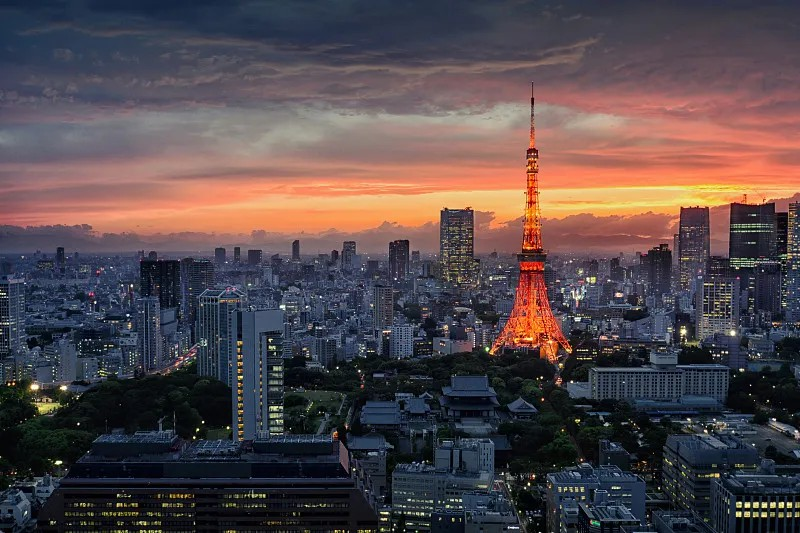Tokyo: (492, 78, 572, 370)
